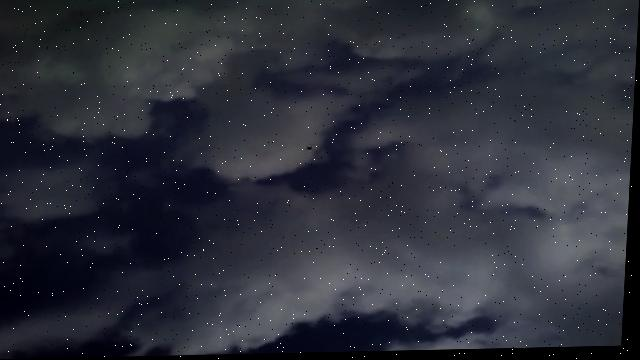drone: (306, 148, 317, 157)
